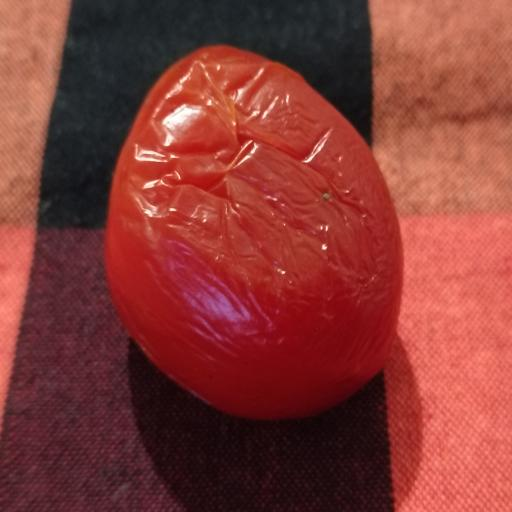spoiled: (105, 47, 402, 418)
